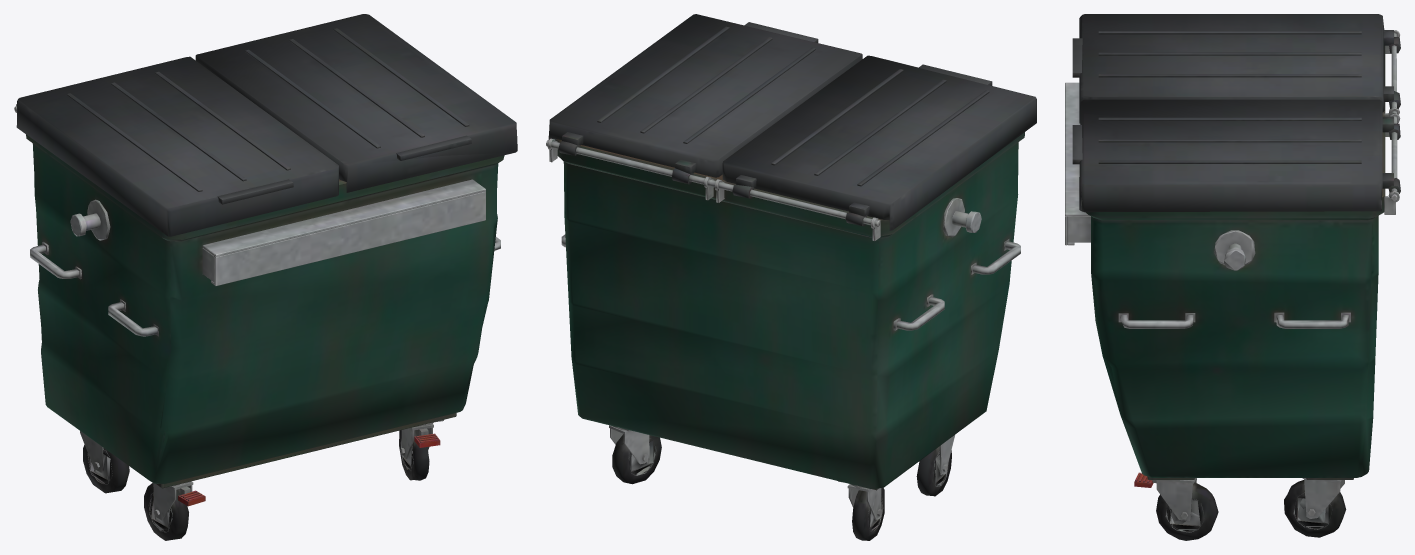
Rendered from g3d_dumpster.glb.
The picture shows the model from 3 angles, left to right: view 1: azimuth 30°, elevation 25°; view 2: azimuth 150°, elevation 25°; view 3: azimuth 270°, elevation 25°; orthographic projection. The views are drawn at different scales.
Visible parts, largest first — view 1: dumpster_body, dumpster_body_lo; view 2: dumpster_body, dumpster_body_lo; view 3: dumpster_body, dumpster_body_lo.
Boxes of the visible parts, x1=… form: dumpster_body: x1=14, y1=14, x2=517, y2=540; dumpster_body_lo: x1=14, y1=28, x2=516, y2=532; dumpster_body: x1=546, y1=14, x2=1036, y2=540; dumpster_body_lo: x1=546, y1=22, x2=1014, y2=531; dumpster_body: x1=1065, y1=14, x2=1400, y2=540; dumpster_body_lo: x1=1065, y1=30, x2=1399, y2=530.
Bounding box in the file's own units: 1.38 × 1.33 × 1.06.
1 material, 1 textured.
